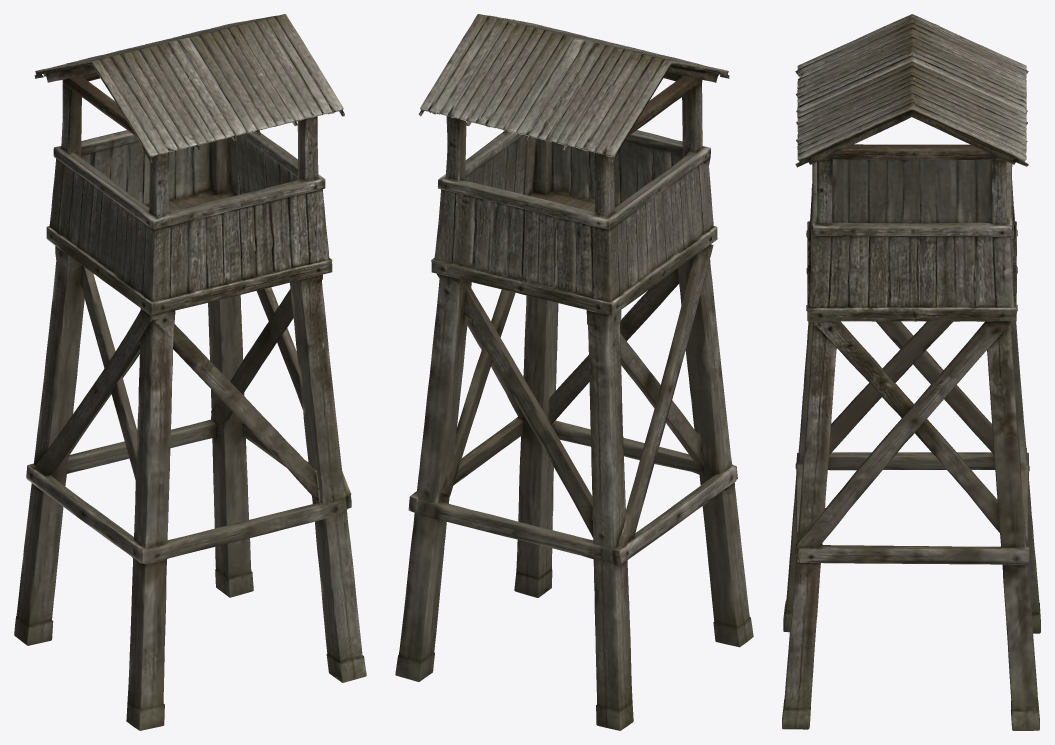
The model's file is prop_watchtower.glb.
3 views of the same model, side by side, from view 1: azimuth 30°, elevation 25°; view 2: azimuth 150°, elevation 25°; view 3: azimuth 270°, elevation 25° (orthographic).
Parts seen in each view (by area): view 1: tripo_node_01bddbd5-f00a-45e0-9da5-f2511a15e550; view 2: tripo_node_01bddbd5-f00a-45e0-9da5-f2511a15e550; view 3: tripo_node_01bddbd5-f00a-45e0-9da5-f2511a15e550.
Part boxes in pixels (box(x1,y1,x2,y2)): tripo_node_01bddbd5-f00a-45e0-9da5-f2511a15e550: box(14, 14, 366, 730); tripo_node_01bddbd5-f00a-45e0-9da5-f2511a15e550: box(395, 14, 753, 730); tripo_node_01bddbd5-f00a-45e0-9da5-f2511a15e550: box(782, 14, 1040, 730).
Bounding box in the file's own units: 0.3806 × 0.9804 × 0.3735.
Materials: 1 (1 with a texture image).
